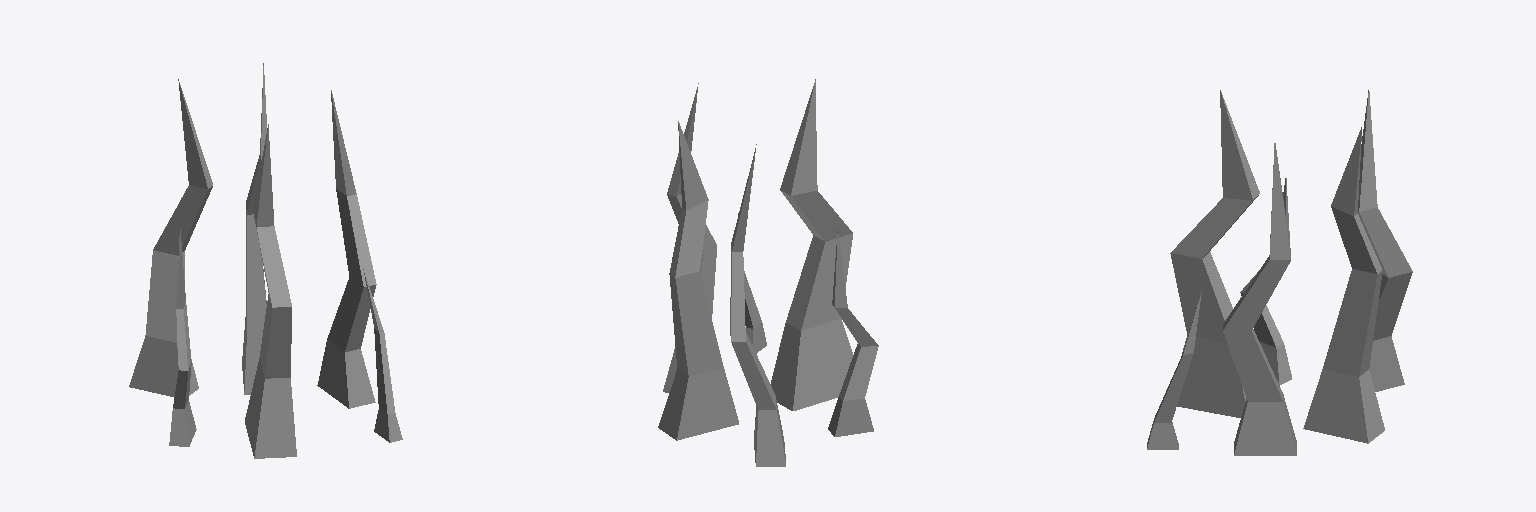
File: Grass3.obj
The picture shows the model from 3 angles: view 1: azimuth 30°, elevation 25°; view 2: azimuth 150°, elevation 25°; view 3: azimuth 270°, elevation 25°; orthographic projection.
Parts seen in each view (by area): view 1: Cube.001_Cube.007; view 2: Cube.001_Cube.007; view 3: Cube.001_Cube.007.
Part boxes in pixels (x1,y1,x2,y2): Cube.001_Cube.007: (129, 63, 402, 458); Cube.001_Cube.007: (658, 79, 878, 466); Cube.001_Cube.007: (1147, 90, 1412, 455).
Size of the model in its own units: 0.456 by 0.7168 by 0.5435.